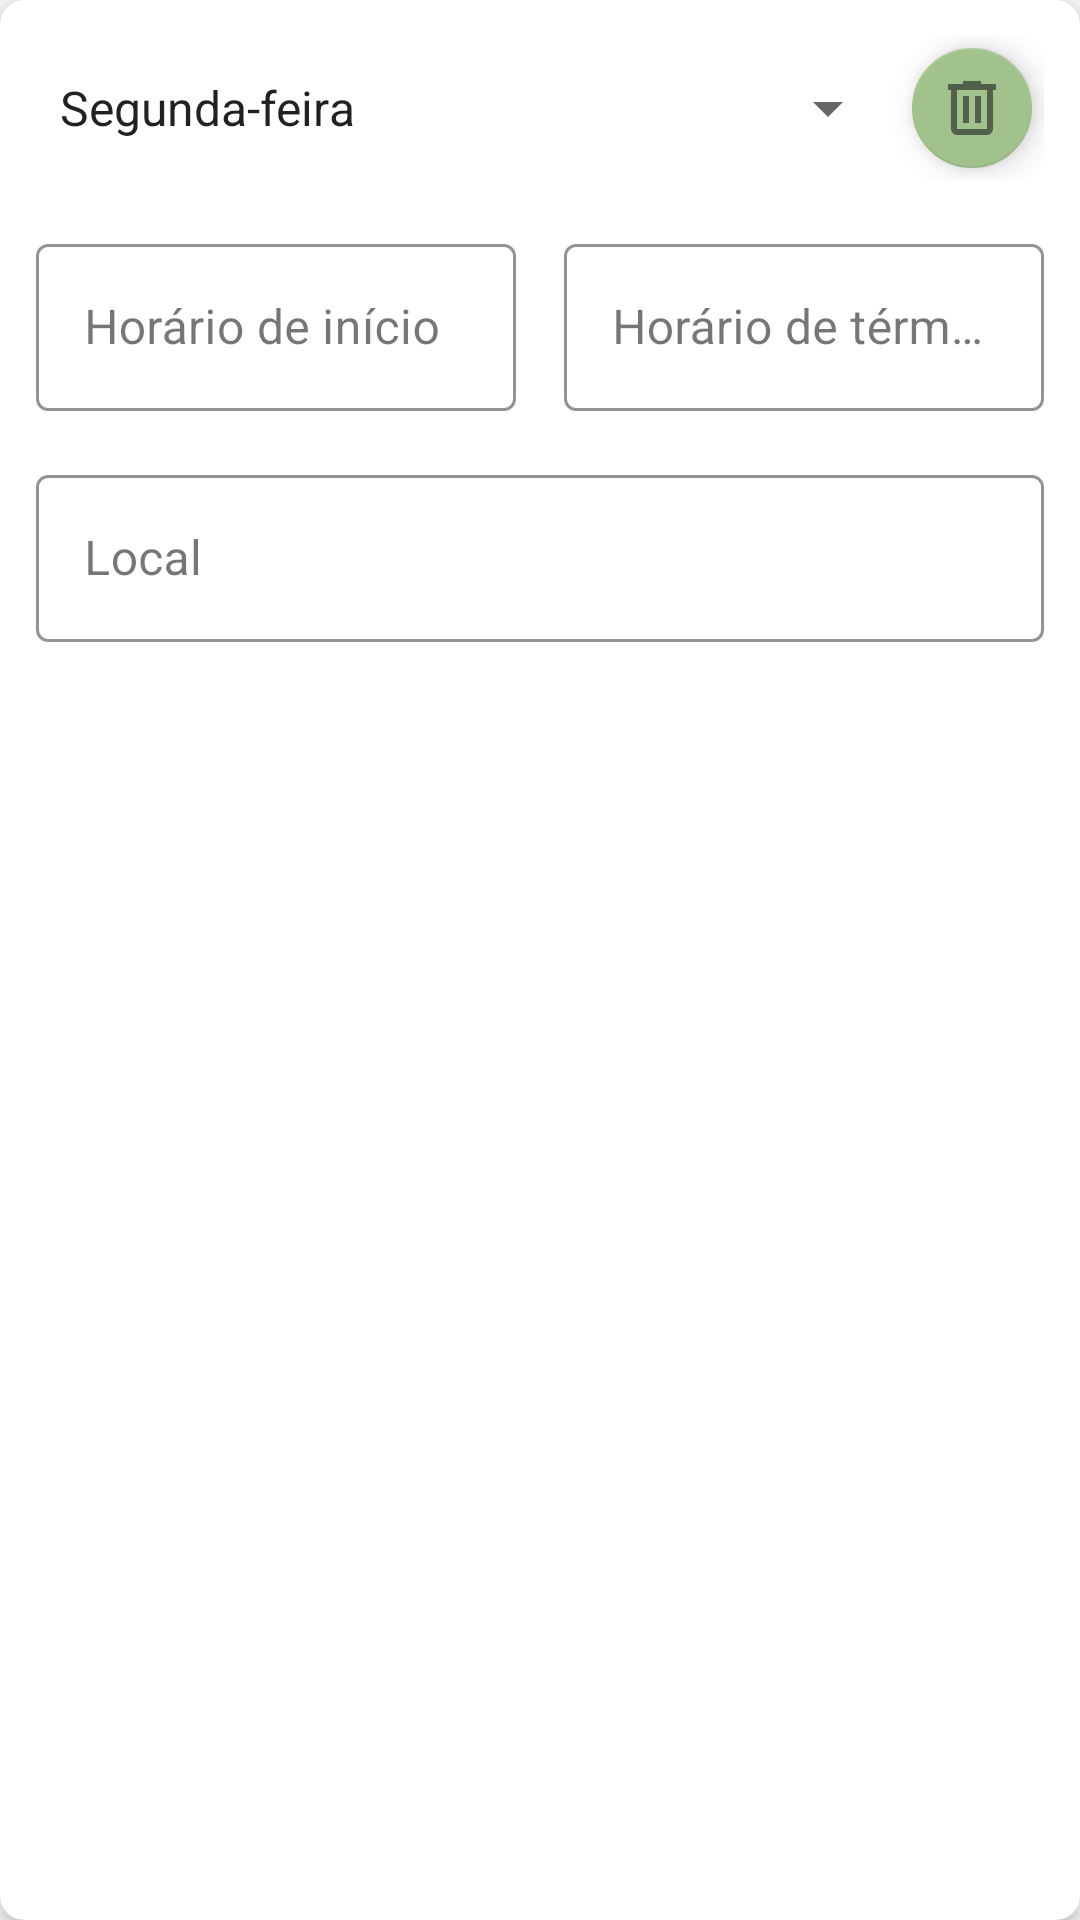

Point at icon controls on the screen. Image size 1080x1920, points as point (x, y).
Remover horário: point (973, 108)
